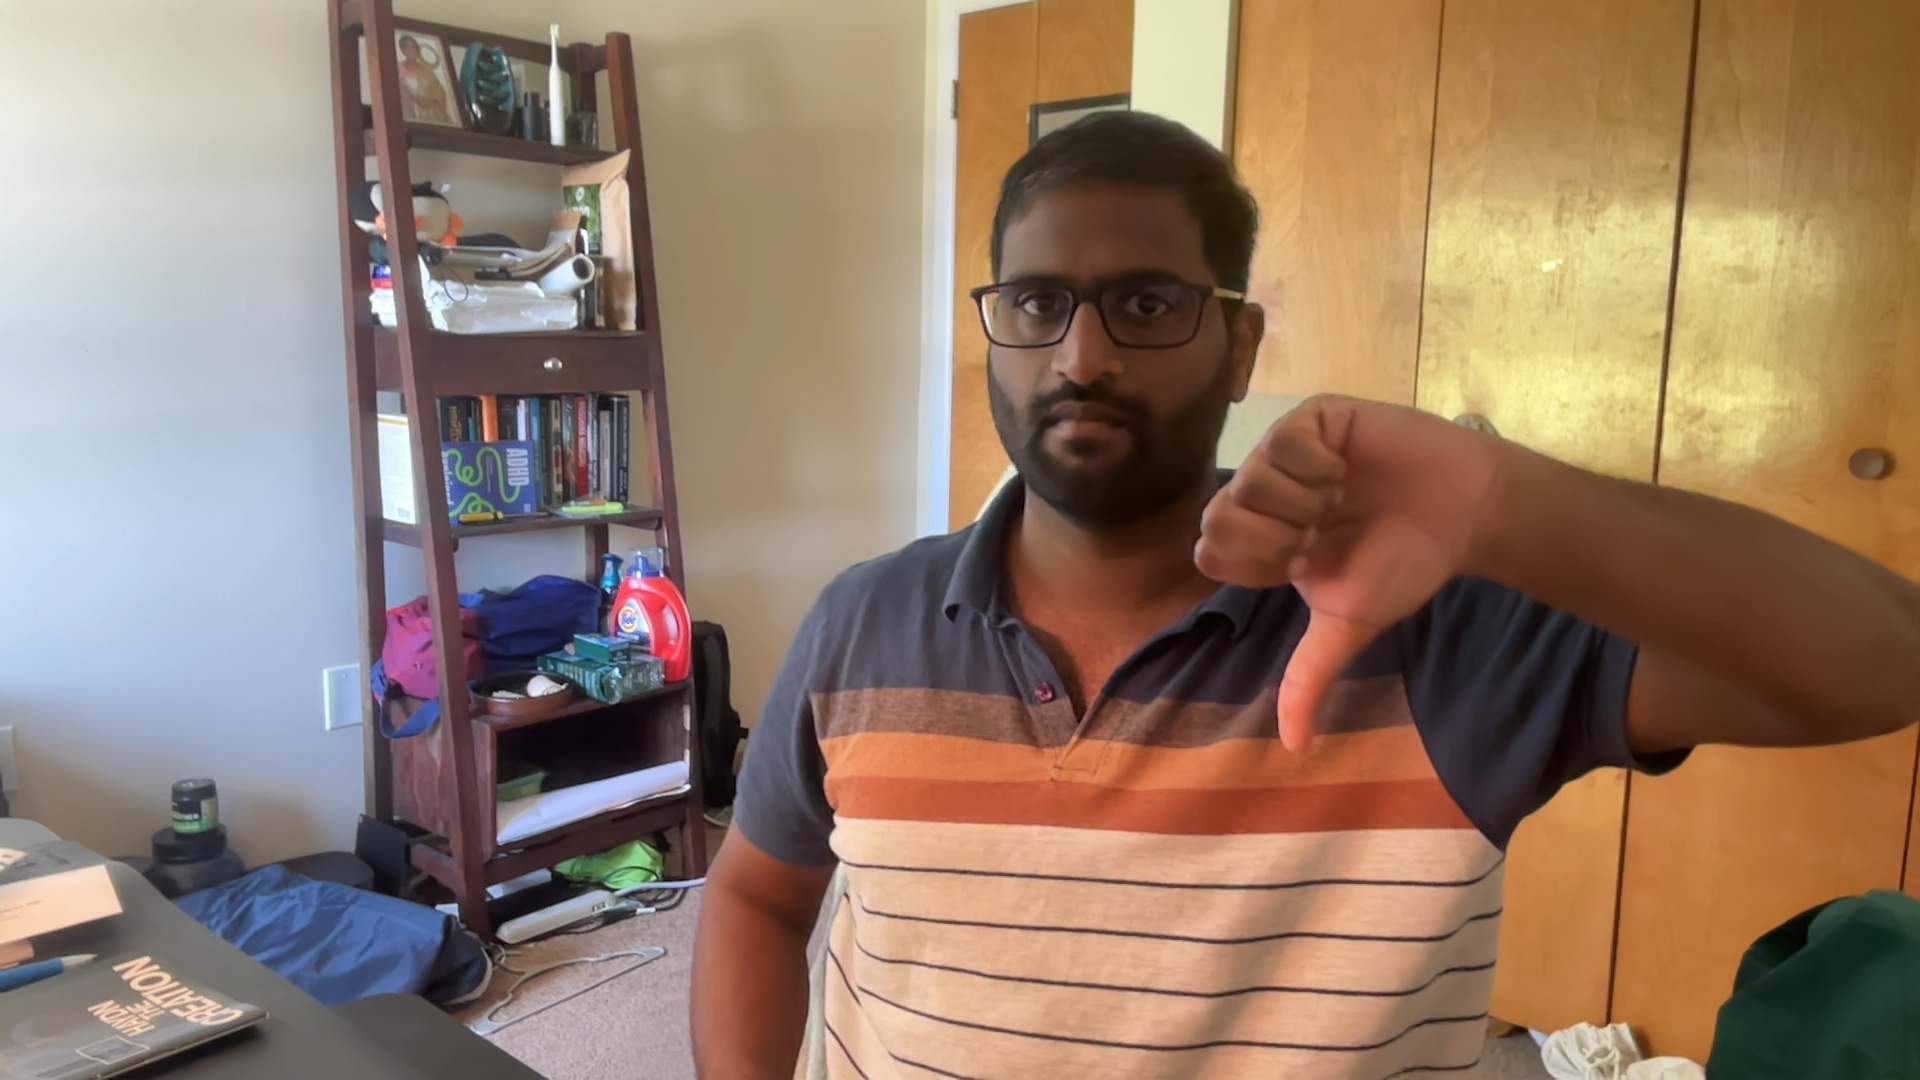ThumbsDown: (1198, 392, 1474, 752)
